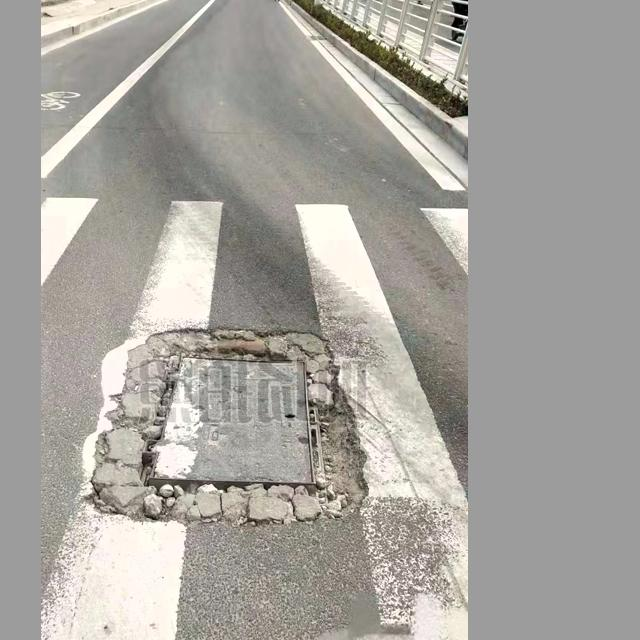circle: (0, 598, 303, 640)
